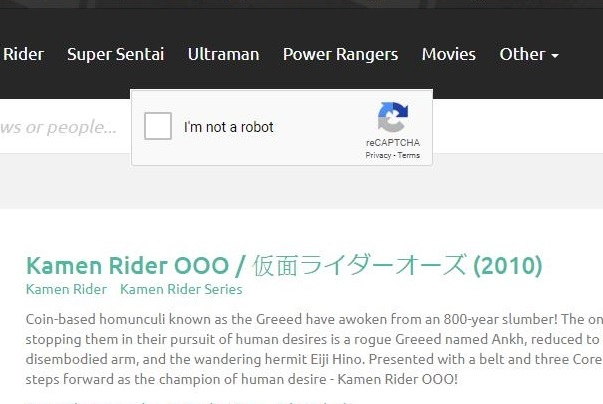captcha: (144, 112, 279, 140)
